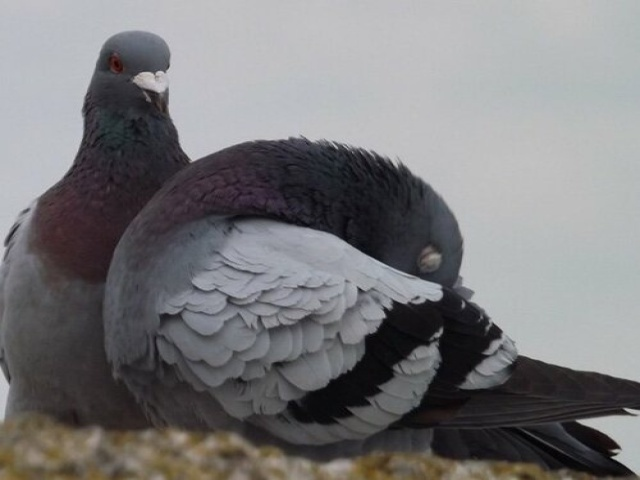Pigeon: (93, 131, 635, 469), (2, 23, 193, 348)
